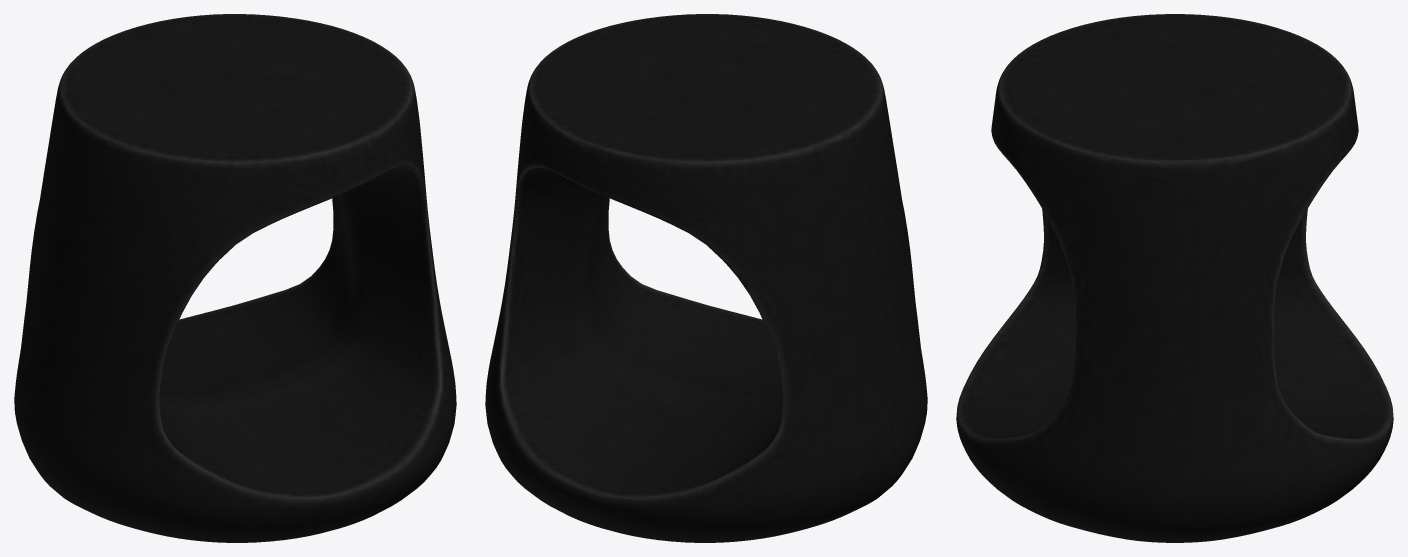
3 renders of one model, left to right at view 1: azimuth 30°, elevation 25°; view 2: azimuth 150°, elevation 25°; view 3: azimuth 270°, elevation 25°, orthographic.
Visible parts, largest first — view 1: 3f7dd7a5-a057-4aeb-99a1-f26032eee8d5; view 2: 3f7dd7a5-a057-4aeb-99a1-f26032eee8d5; view 3: 3f7dd7a5-a057-4aeb-99a1-f26032eee8d5.
Boxes of the visible parts, x1=… form: 3f7dd7a5-a057-4aeb-99a1-f26032eee8d5: x1=14, y1=14, x2=456, y2=542; 3f7dd7a5-a057-4aeb-99a1-f26032eee8d5: x1=485, y1=14, x2=927, y2=542; 3f7dd7a5-a057-4aeb-99a1-f26032eee8d5: x1=956, y1=14, x2=1393, y2=542.
Size of the model in its own units: 45.74 by 44.8 by 45.23.
1 material, 1 textured.
